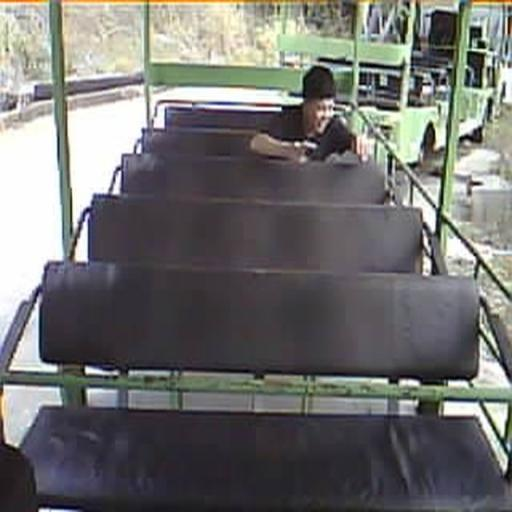persona: (248, 63, 362, 166)
